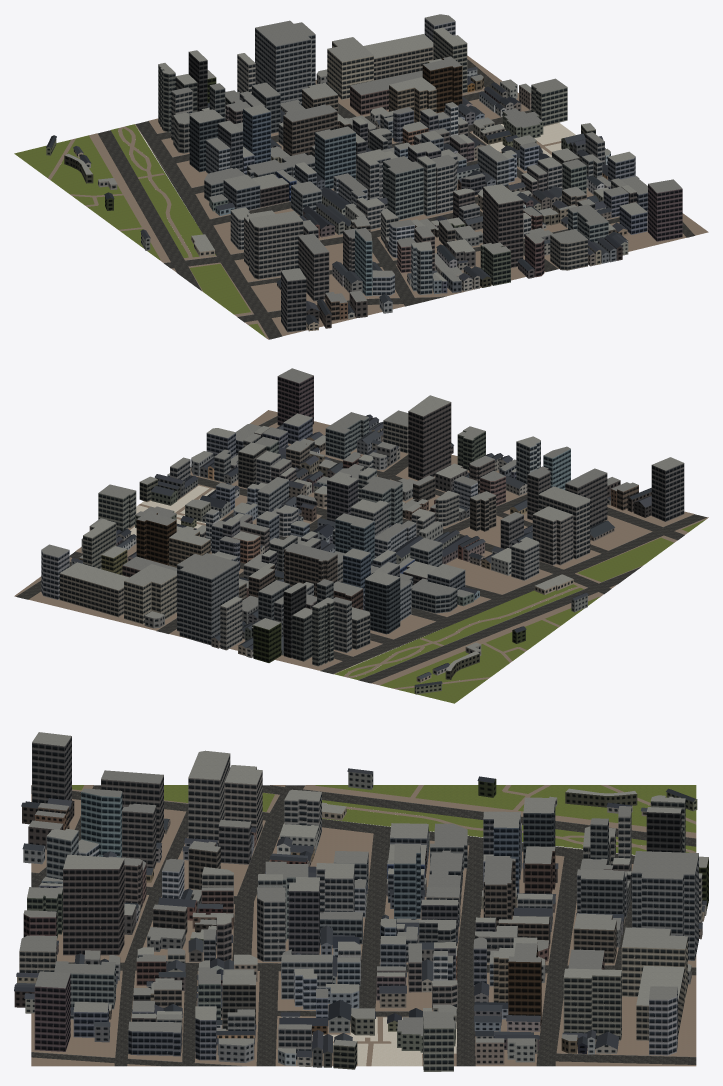
Rendered from namba_city_lod1.glb.
3 renders of one model, top to bottom at view 1: azimuth 30°, elevation 25°; view 2: azimuth 150°, elevation 25°; view 3: azimuth 270°, elevation 25°, orthographic. The views are drawn at different scales.
Parts seen in each view (by area): view 1: paving, asphalt, grass, wall_office_1_1, wall_office_2_2, wall_office_2_0, wall_office_1_0, wall_office_2_3, wall_office_2_1, wall_office_3_1, wall_office_3_3, wall_office_1_3 (+34 smaller); view 2: paving, asphalt, grass, wall_office_1_0, wall_office_2_0, wall_office_2_3, wall_office_2_1, wall_office_3_0, wall_office_1_1, wall_office_0_2, wall_office_2_2, wall_office_3_3 (+33 smaller); view 3: asphalt, paving, wall_office_2_3, wall_office_2_2, grass, wall_office_1_0, wall_office_2_0, wall_office_1_3, wall_office_3_3, wall_office_2_1, wall_office_3_0, wall_office_3_2 (+41 smaller).
Boxes of the visible parts, x1=… form: paving: x1=48, y1=55, x2=708, y2=339; asphalt: x1=98, y1=59, x2=694, y2=339; grass: x1=14, y1=124, x2=265, y2=337; wall_office_1_1: x1=204, y1=109, x2=355, y2=210; wall_office_2_2: x1=356, y1=146, x2=508, y2=221; wall_office_2_0: x1=237, y1=28, x2=373, y2=113; wall_office_1_0: x1=158, y1=52, x2=283, y2=172; wall_office_2_3: x1=439, y1=187, x2=587, y2=285; wall_office_2_1: x1=283, y1=110, x2=466, y2=163; wall_office_3_1: x1=389, y1=58, x2=567, y2=161; wall_office_3_3: x1=562, y1=178, x2=682, y2=242; wall_office_1_3: x1=343, y1=223, x2=434, y2=296; paving: x1=14, y1=410, x2=708, y2=689; asphalt: x1=16, y1=416, x2=706, y2=683; grass: x1=334, y1=519, x2=706, y2=703; wall_office_1_0: x1=251, y1=577, x2=400, y2=666; wall_office_2_0: x1=124, y1=562, x2=246, y2=650; wall_office_2_3: x1=343, y1=402, x2=485, y2=501; wall_office_2_1: x1=211, y1=514, x2=337, y2=597; wall_office_3_0: x1=41, y1=523, x2=140, y2=617; wall_office_1_1: x1=335, y1=519, x2=465, y2=621; wall_office_0_2: x1=511, y1=494, x2=590, y2=580; wall_office_2_2: x1=257, y1=469, x2=402, y2=544; wall_office_3_3: x1=236, y1=375, x2=368, y2=468; asphalt: x1=31, y1=785, x2=696, y2=1066; paving: x1=31, y1=785, x2=696, y2=1066; wall_office_2_3: x1=19, y1=859, x2=187, y2=985; wall_office_2_2: x1=203, y1=865, x2=362, y2=999; grass: x1=72, y1=785, x2=696, y2=854; wall_office_1_0: x1=517, y1=797, x2=708, y2=923; wall_office_2_0: x1=573, y1=855, x2=702, y2=998; wall_office_1_3: x1=46, y1=791, x2=184, y2=909; wall_office_3_3: x1=34, y1=963, x2=182, y2=1056; wall_office_2_1: x1=377, y1=857, x2=549, y2=992; wall_office_3_0: x1=563, y1=951, x2=684, y2=1055; wall_office_3_2: x1=195, y1=972, x2=357, y2=1069.
Size of the model in its own units: 323 by 45.5 by 330.
Materials: 9 (9 with a texture image).
